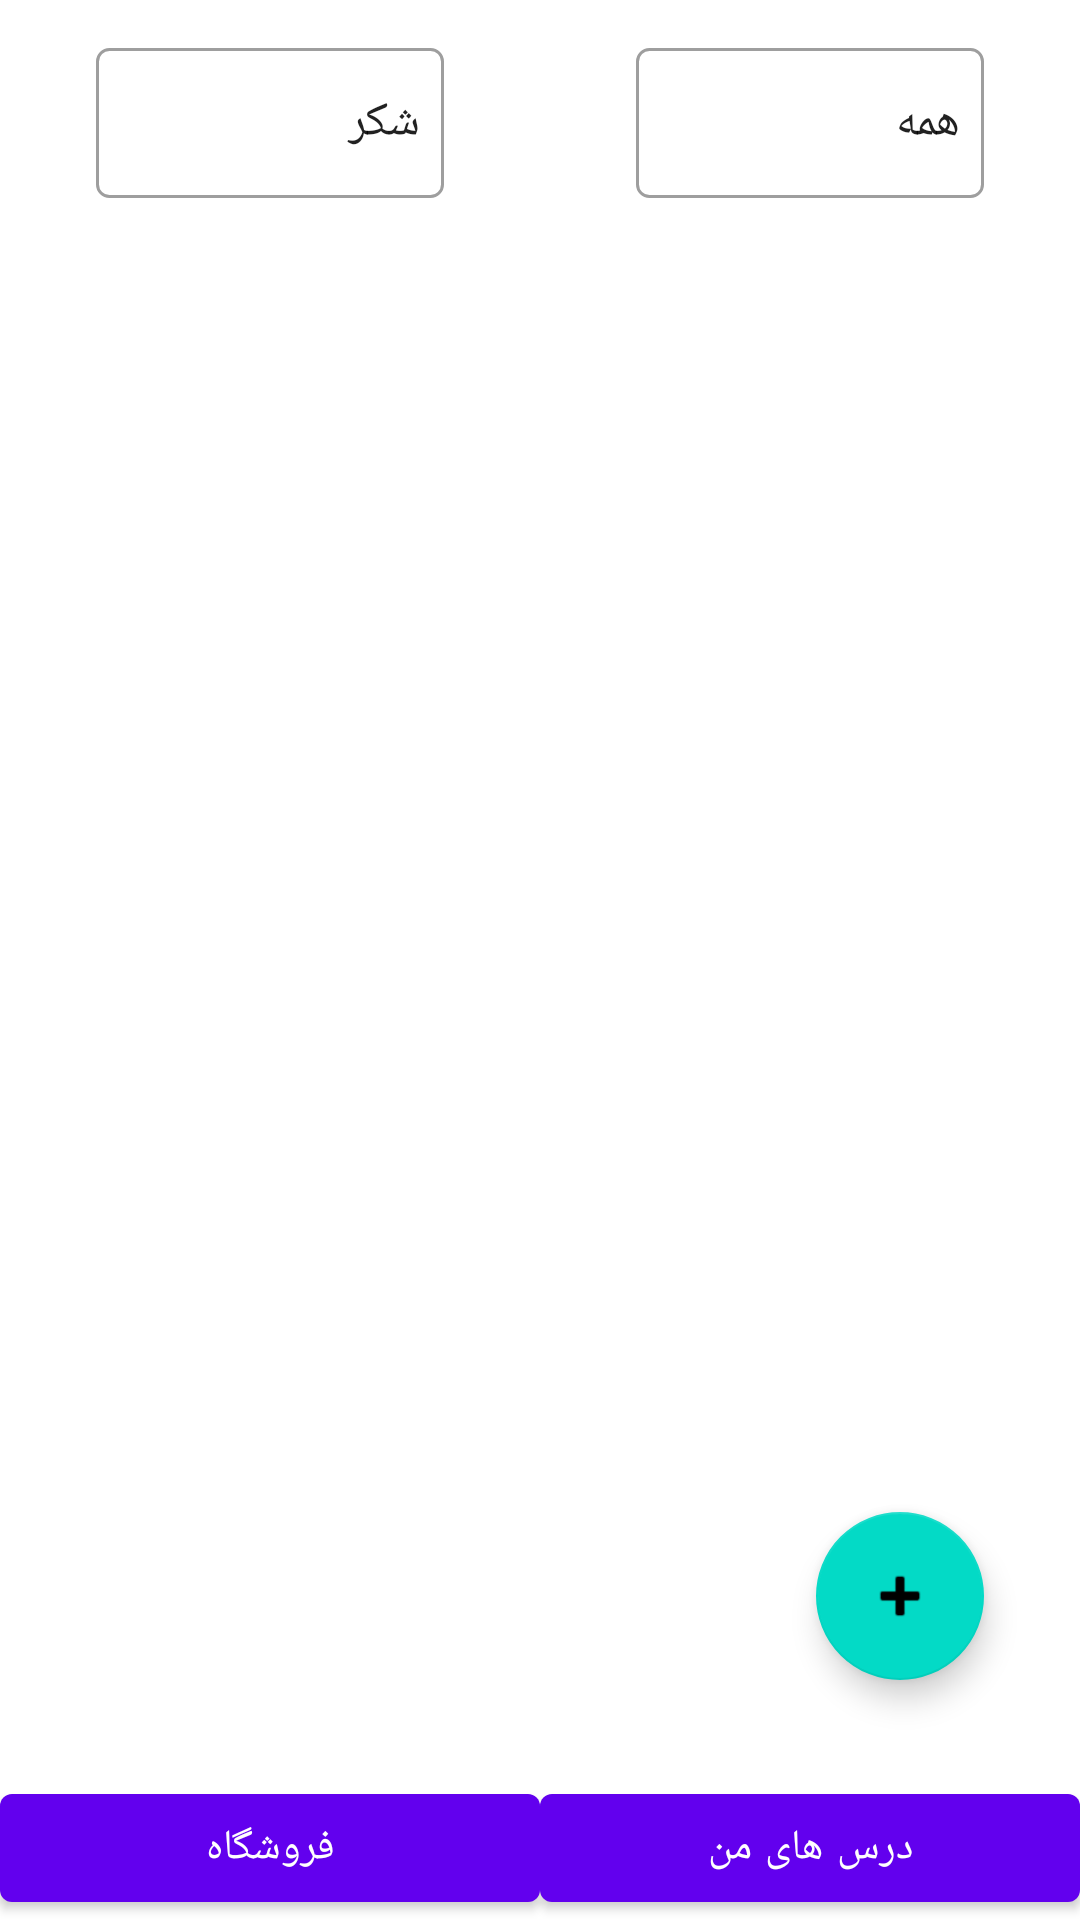

Where to tap for icons on this 1080*1920 app screen, as point (x, y):
add: point (900, 1596)
